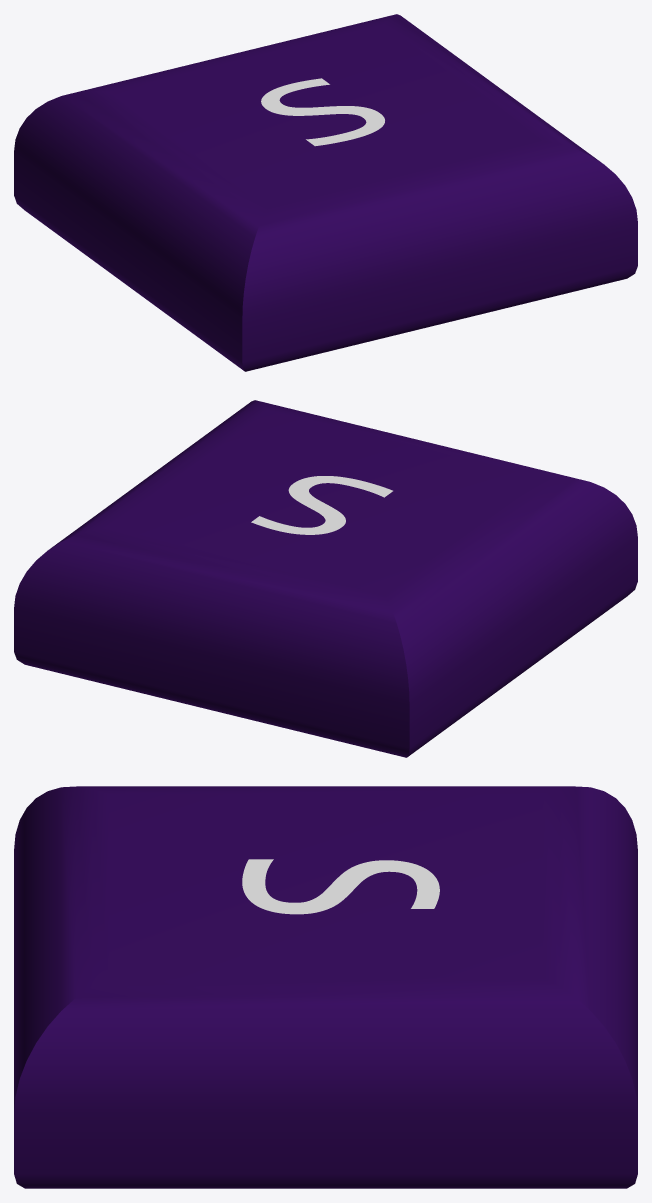
File: s-key.glb
3 views of the same model, one above another, from view 1: azimuth 30°, elevation 25°; view 2: azimuth 150°, elevation 25°; view 3: azimuth 270°, elevation 25° (orthographic). The views are drawn at different scales.
Parts seen in each view (by area): view 1: Cube, Text; view 2: Cube, Text; view 3: Cube, Text.
Part boxes in pixels (box(x1,y1,x2,y2)): Cube: box(14, 14, 637, 371); Text: box(261, 78, 384, 146); Cube: box(14, 400, 637, 757); Text: box(251, 476, 392, 534); Cube: box(14, 786, 637, 1188); Text: box(242, 859, 439, 914).
Bounding box in the file's own units: 1.34 × 0.4228 × 1.34.
